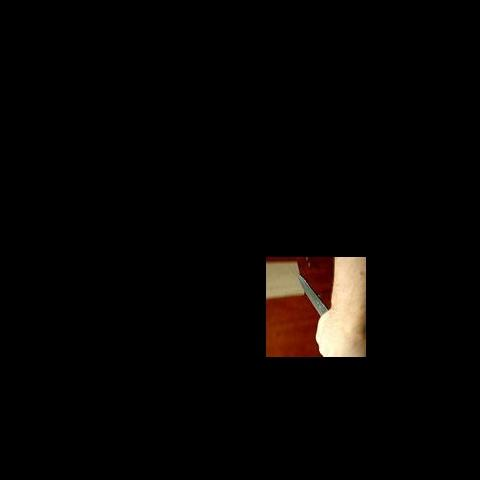knife: (298, 274, 328, 316)
